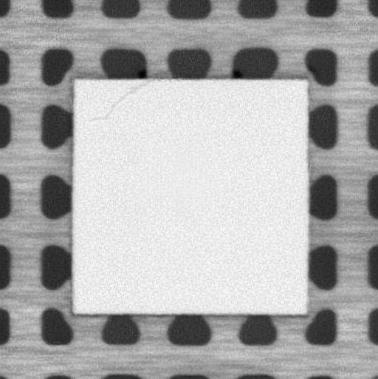DIE_CRACK: (93, 80, 152, 121)
